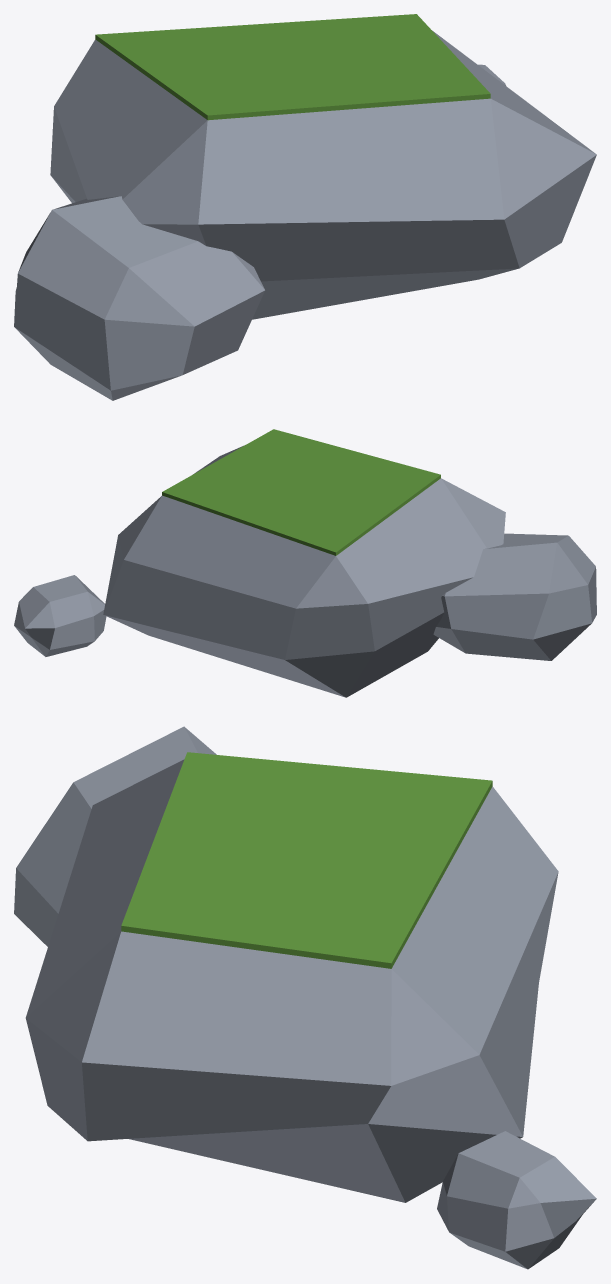
Rendered from Rock2.fbx.
The picture shows the model from 3 angles, top to bottom: view 1: azimuth 30°, elevation 25°; view 2: azimuth 150°, elevation 25°; view 3: azimuth 270°, elevation 25°; orthographic projection. The views are drawn at different scales.
Visible parts, largest first — view 1: Rock, Moss; view 2: Rock, Moss; view 3: Rock, Moss.
Part boxes in pixels (bbox=[...]): Rock: bbox=[14, 30, 596, 400]; Moss: bbox=[95, 14, 490, 120]; Rock: bbox=[14, 445, 596, 697]; Moss: bbox=[162, 429, 440, 555]; Rock: bbox=[14, 726, 596, 1269]; Moss: bbox=[121, 752, 492, 968].
Size of the model in its own units: 7.07 by 2.44 by 4.65.
